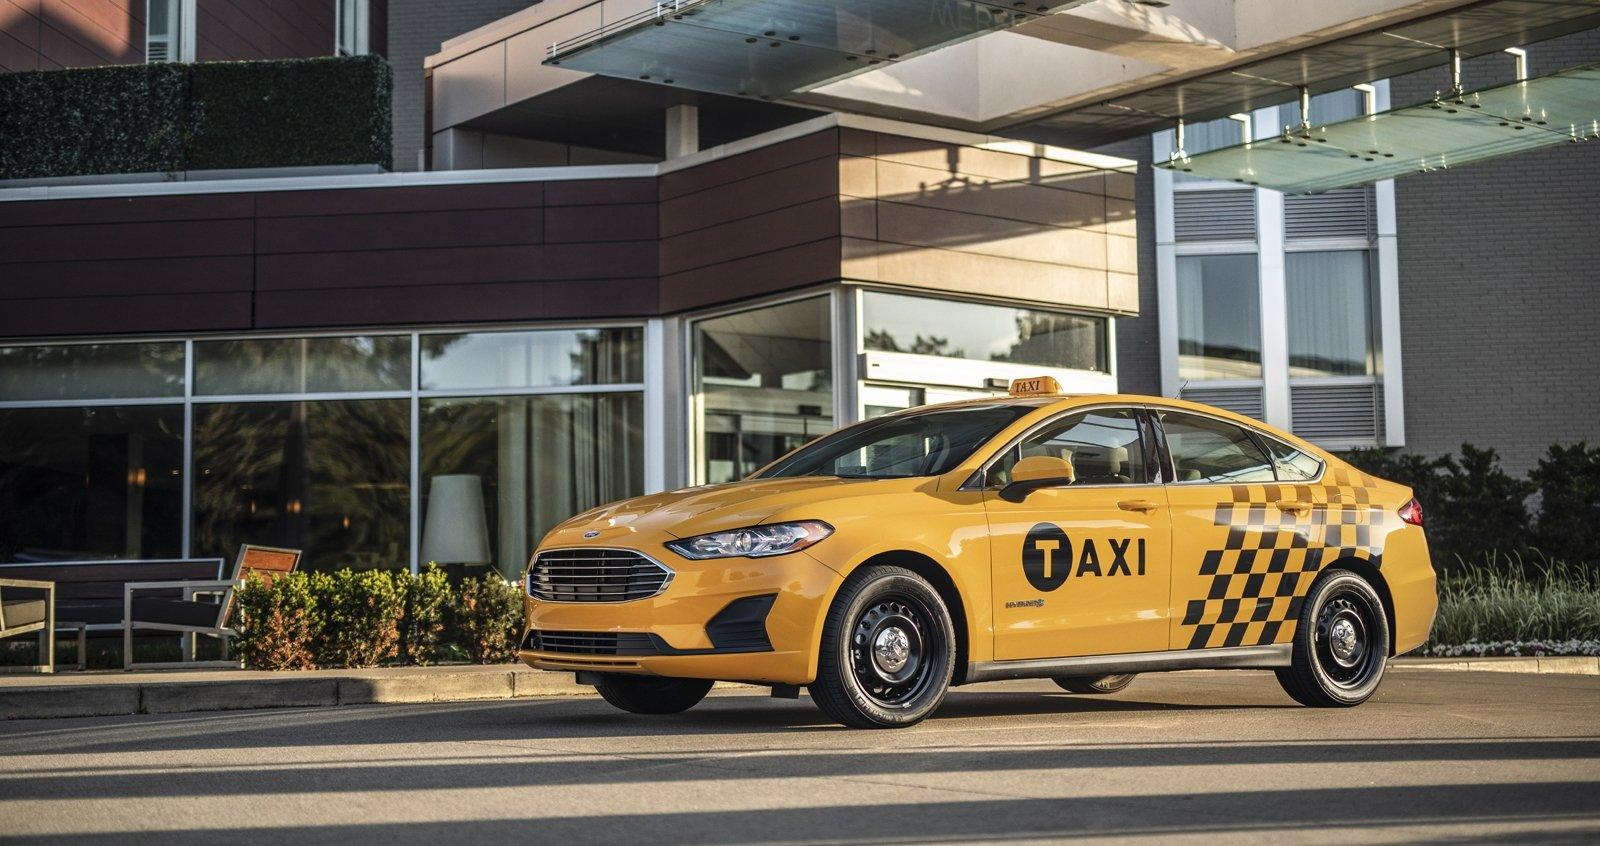taxi: (481, 364, 1453, 735)
